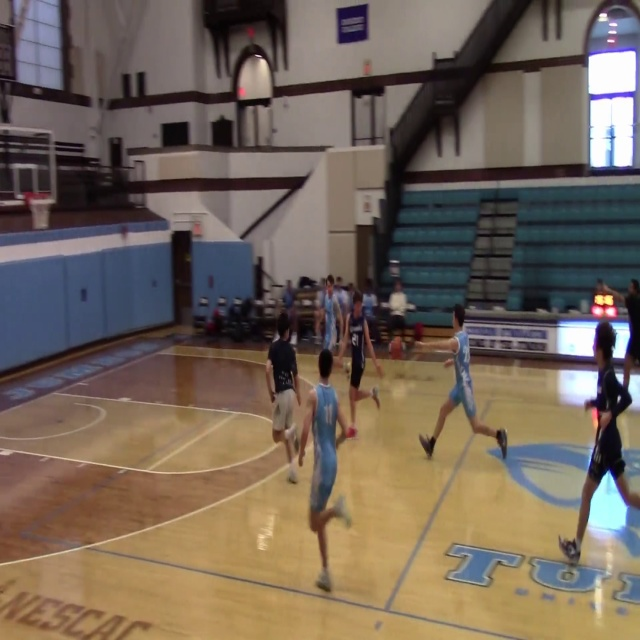Basketball: (389, 338, 402, 359), (448, 337, 459, 353), (414, 323, 424, 340), (344, 362, 351, 373)
